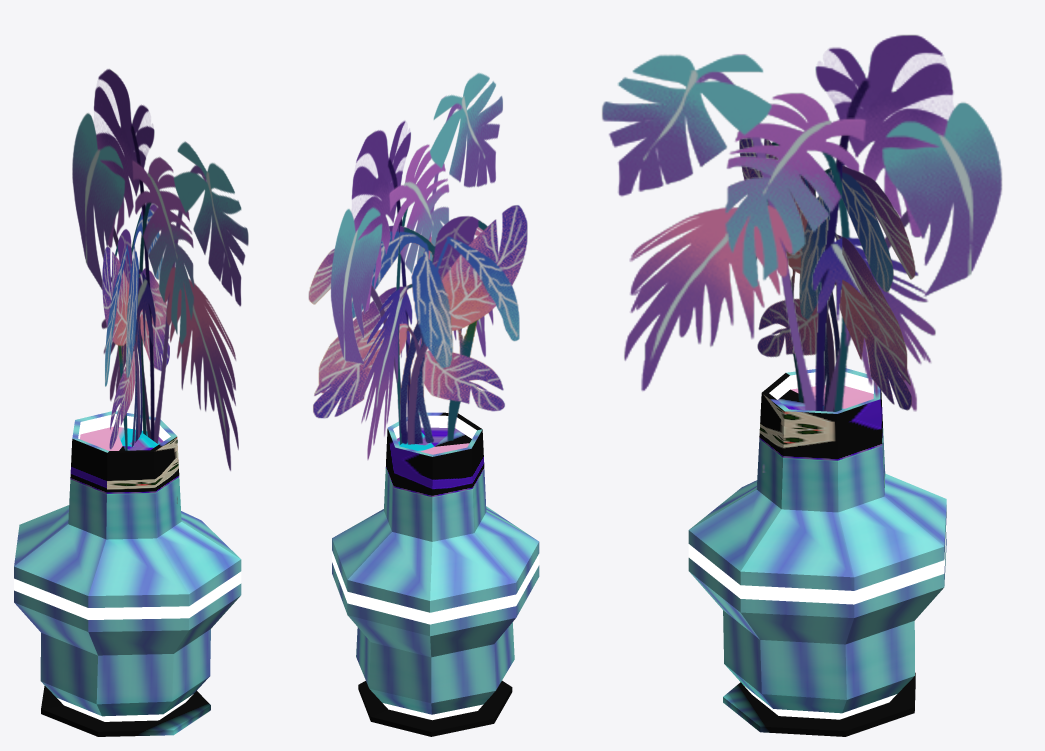
File: Pot_Vapor_03.glb
3 renders of one model, left to right at view 1: azimuth 30°, elevation 25°; view 2: azimuth 150°, elevation 25°; view 3: azimuth 270°, elevation 25°, orthographic. The views are drawn at different scales.
Visible parts, largest first — view 1: Pot_Vapor_03; view 2: Pot_Vapor_03; view 3: Pot_Vapor_03.
Boxes of the visible parts, x1,y1,x2,y2 form: Pot_Vapor_03: (14, 69, 248, 736); Pot_Vapor_03: (308, 73, 539, 736); Pot_Vapor_03: (601, 34, 1002, 736).
Bounding box in the file's own units: 1.51 × 4.43 × 2.55.
Materials: 3 (3 with a texture image).
